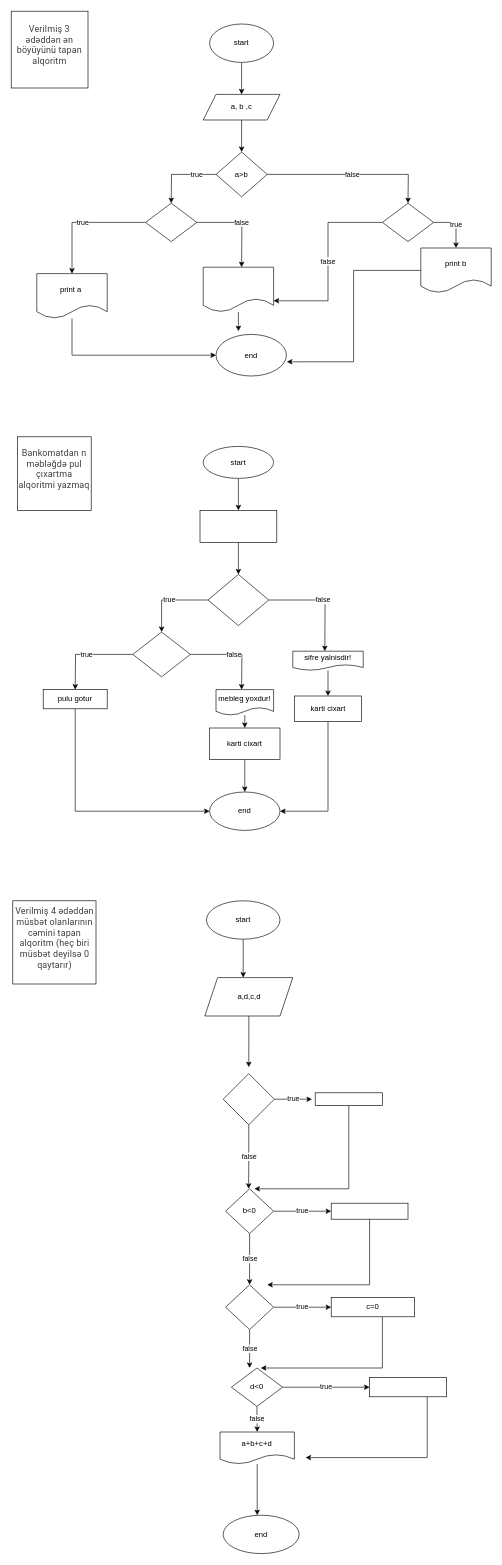
This 502x1565 diagram has some shape labels left out. The centre of each missing label's shape, as x and y in pixels:
"a<0" belongs at (248,1099).
"a=0" belongs at (348,1099).
"a>c" belongs at (171,222).
"b=0" belongs at (369,1211).
"b>c" belongs at (408,222).
"c<0" belongs at (249,1307).
"d=0" belongs at (407,1387).
"karti daxil et" belongs at (238,526).
"n meblegi daxil et" belongs at (161,654).
"pin kodu yaz" belongs at (238,600).
"print c" belongs at (238,289).
